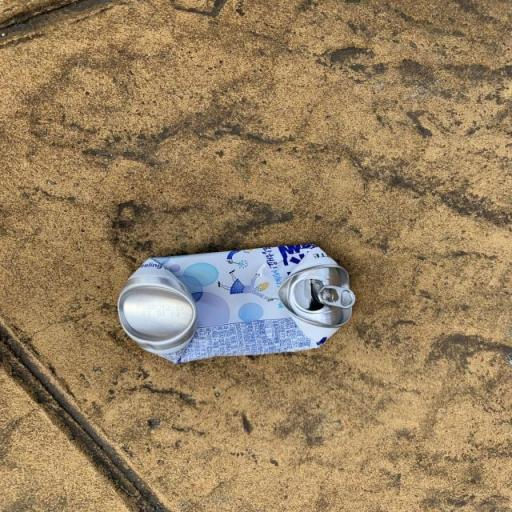metal: (50, 222, 366, 377)
